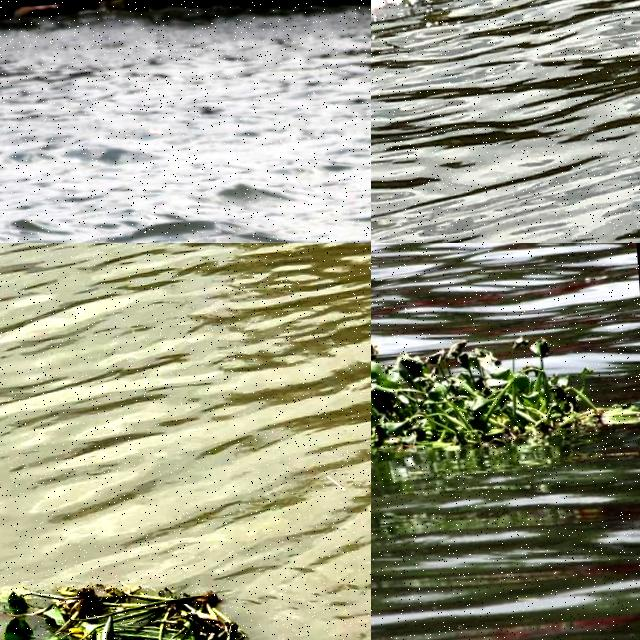water-hyacinth: (372, 338, 607, 476), (1, 565, 249, 640)
